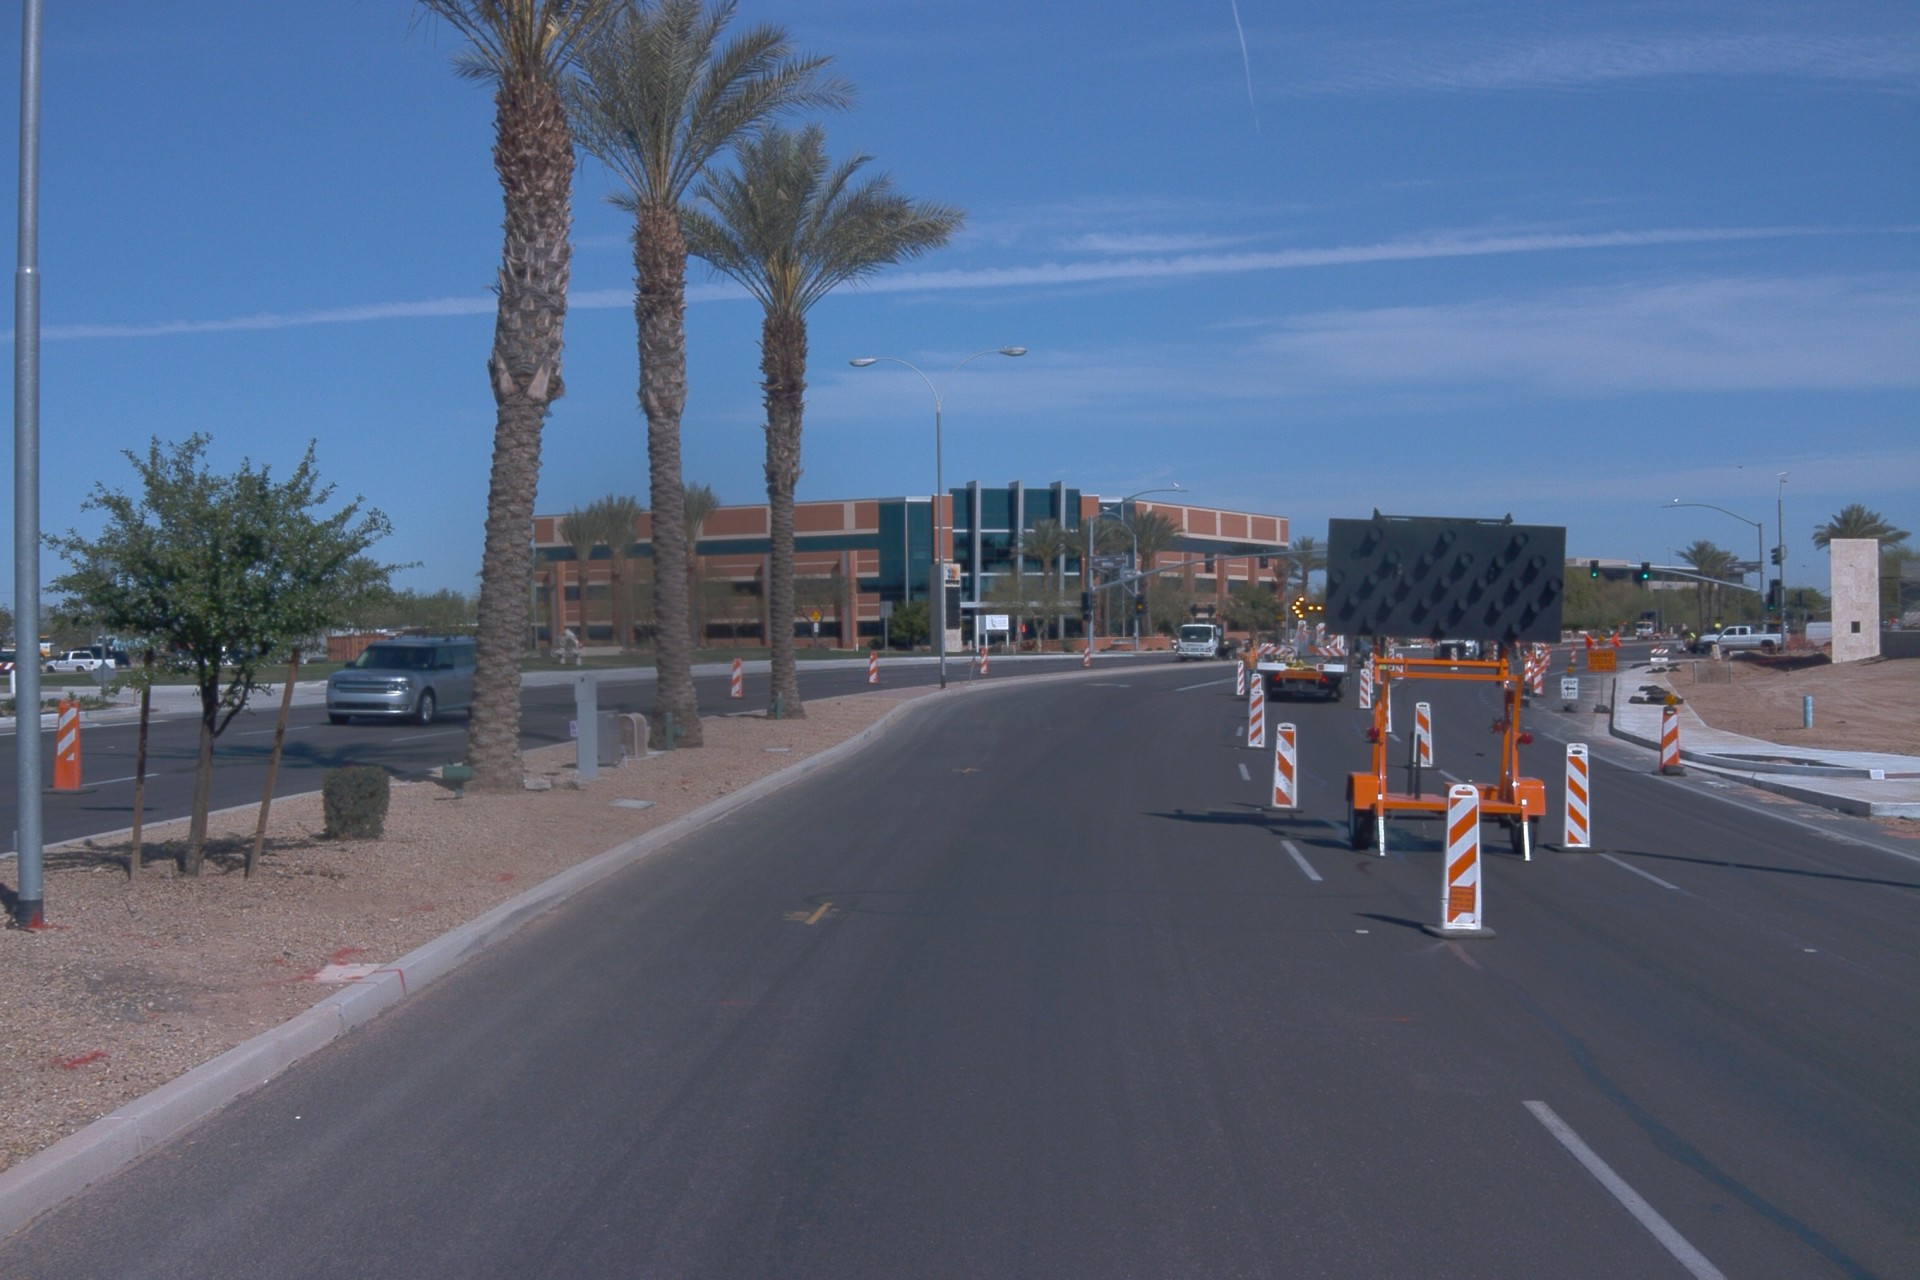TYPE_PEDESTRIAN: (1237, 643, 1259, 697), (1378, 649, 1391, 682)
TYPE_VEHICLE: (1321, 497, 1595, 868), (323, 637, 477, 731), (1244, 591, 1354, 700), (1170, 616, 1250, 665), (1692, 620, 1789, 654), (1431, 639, 1523, 664), (43, 645, 120, 673), (167, 645, 235, 671), (1631, 617, 1671, 642), (197, 640, 237, 657), (1356, 640, 1375, 670)
